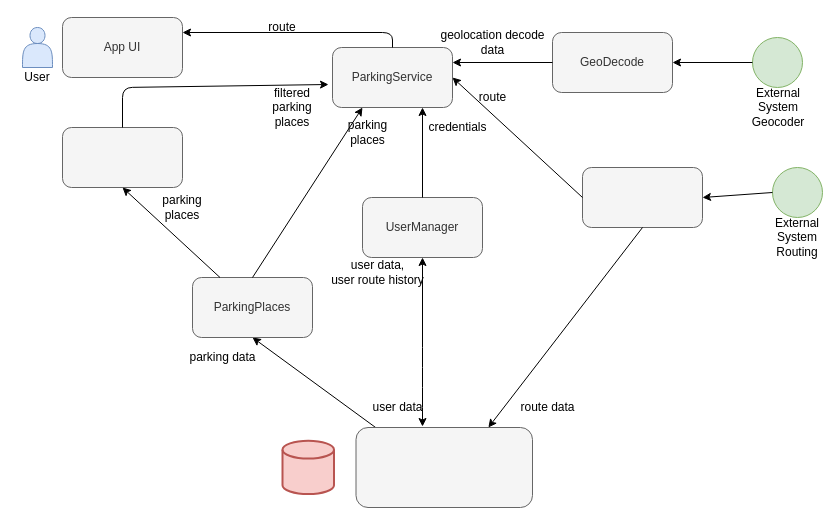
Some shapes in this 840 by 525 pixel diagram are drawn without their labels. The centre of each missing label's shape, as x and y in pixels:
Database: the point at 443,467
ParkingFilter: the point at 122,157
RouteFinder: the point at 642,197
